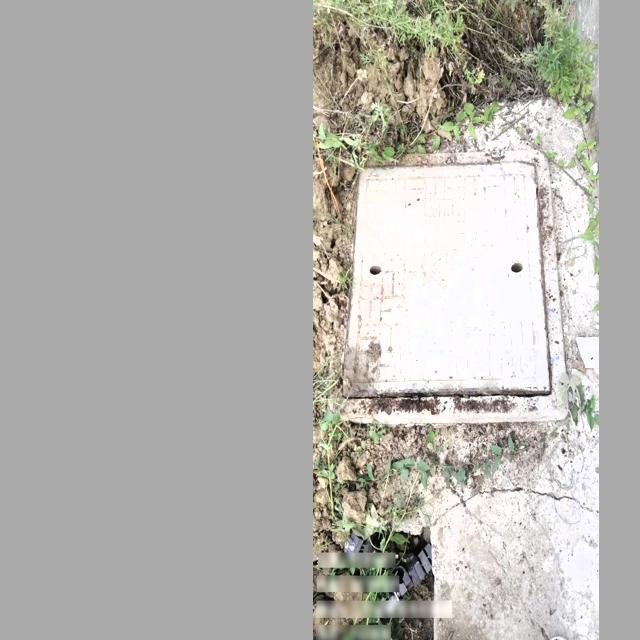good: (336, 152, 570, 421)
